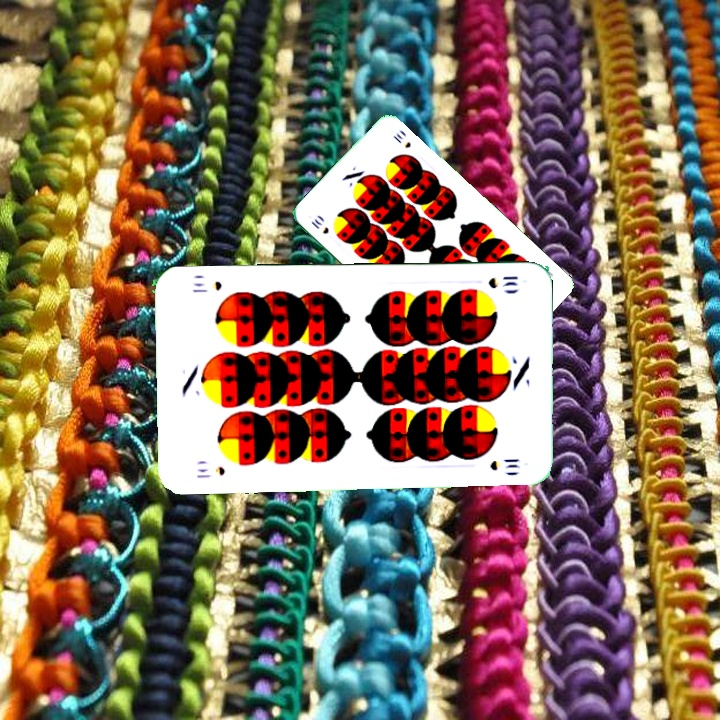S10: (485, 272, 521, 291), (192, 462, 227, 481), (307, 214, 331, 236)
